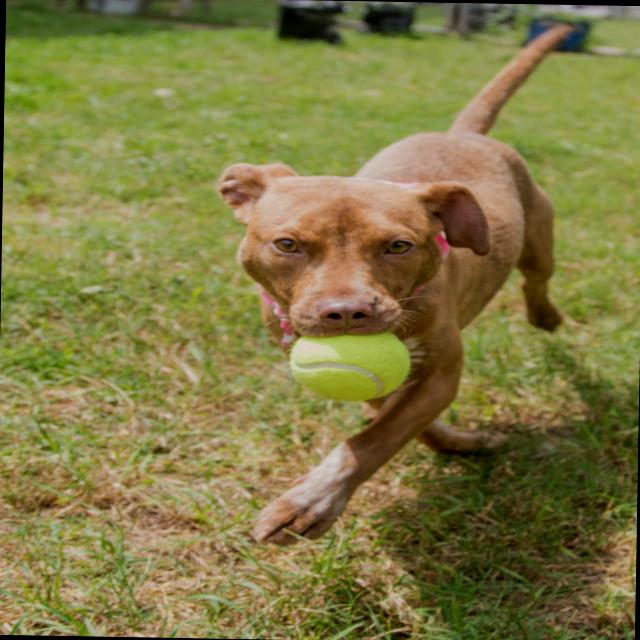Tennis ball: (276, 324, 424, 399)
